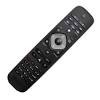remote control: (6, 3, 100, 100)
